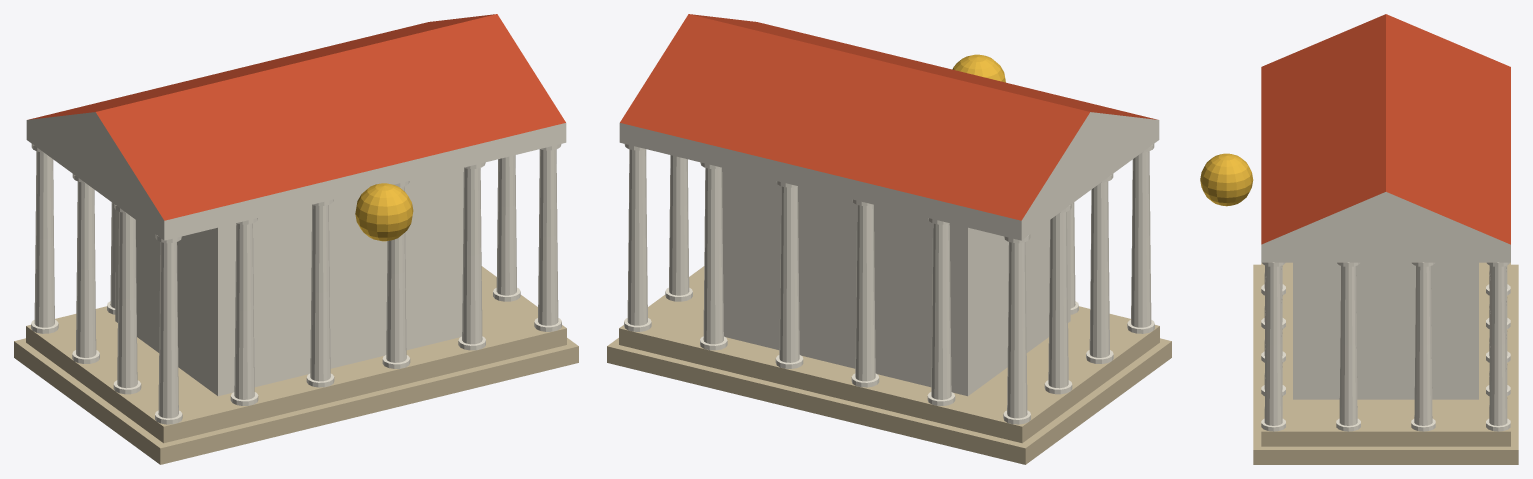
The model's file is building_bank.fbx.
The picture shows the model from 3 angles, left to right: view 1: azimuth 30°, elevation 25°; view 2: azimuth 150°, elevation 25°; view 3: azimuth 270°, elevation 25°; orthographic projection. The views are drawn at different scales.
Visible parts, largest first — view 1: building_bank; view 2: building_bank; view 3: building_bank.
Boxes of the visible parts, x1=… form: building_bank: x1=14, y1=14, x2=578, y2=464; building_bank: x1=607, y1=14, x2=1171, y2=464; building_bank: x1=1200, y1=14, x2=1518, y2=464.
Size of the model in its own units: 66 by 44.8 by 48.
